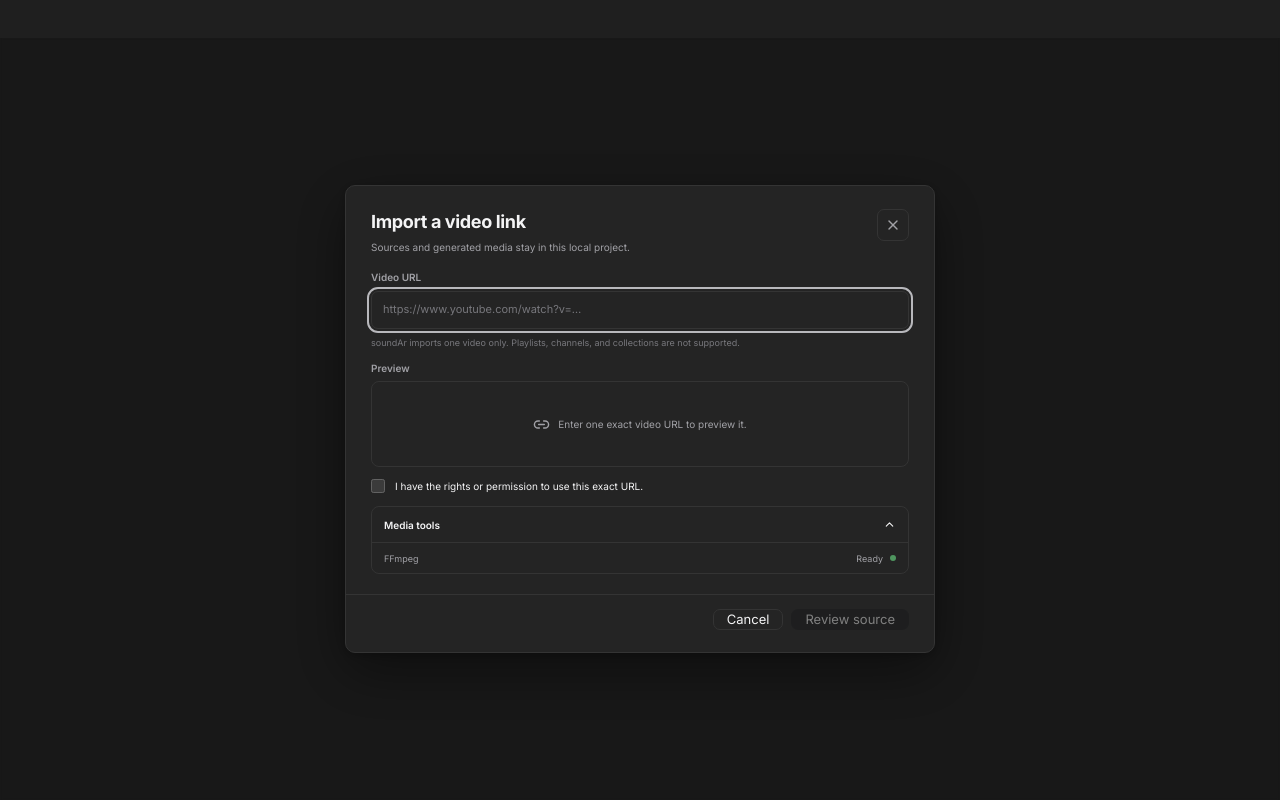
Test: VideoIntakeDialog › shows the cached poster when a link carries no playable preview
The width and height of the screenshot is (1280, 800).
Type "https://example.com/video/one" into the field labelled "Video URL". click: (640, 310)
box: [371,291,909,329]
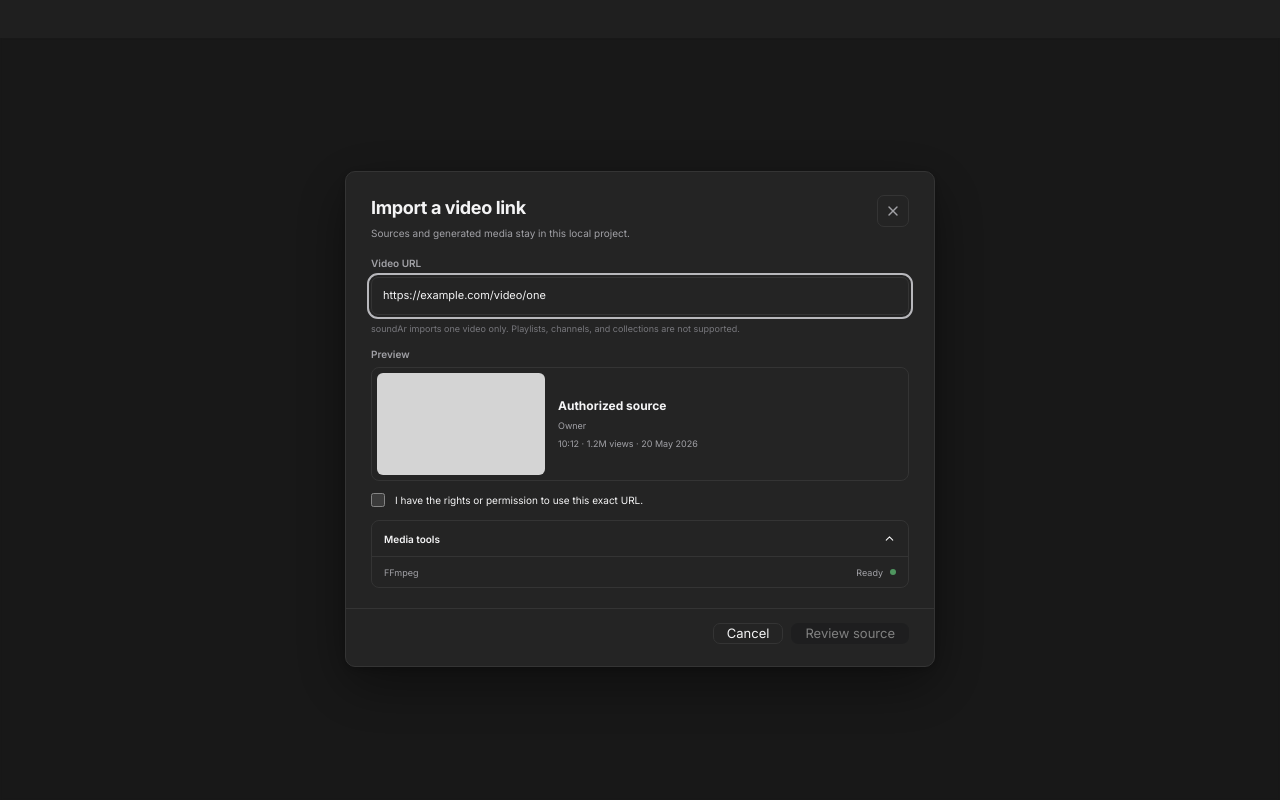
Result: the text "10:12 · 1.2M views · 20 May 2026" is shown at [558,438,698,450]
Result: the checkbox labelled "I have the rights or permission to use this exact URL." is enabled at [371,493,385,507]
